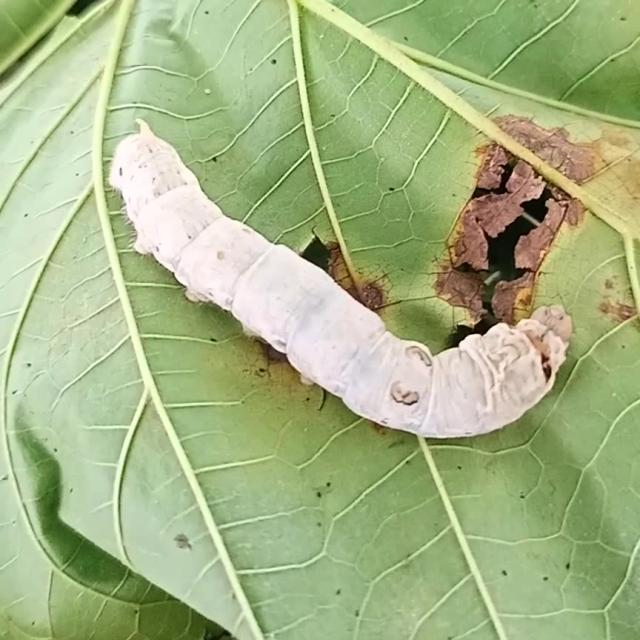Grasserie: (88, 105, 600, 462)
